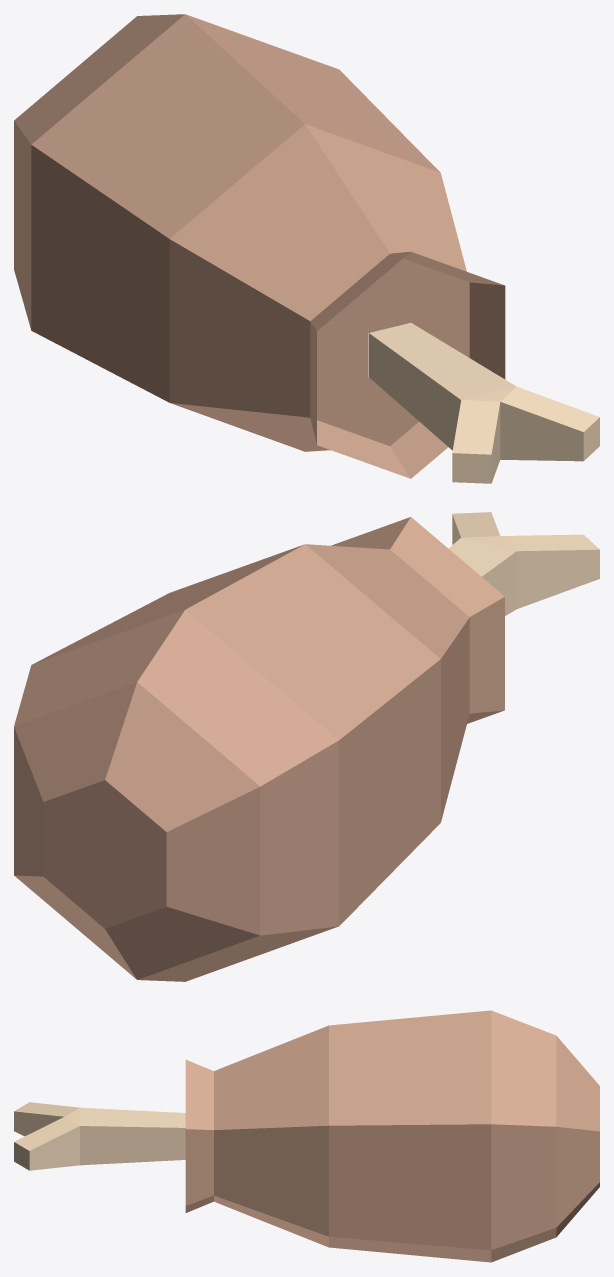
The model's file is ham_bone.gltf.
3 views of the same model, one above another, from view 1: azimuth 30°, elevation 25°; view 2: azimuth 150°, elevation 25°; view 3: azimuth 270°, elevation 25° (orthographic). The views are drawn at different scales.
Parts seen in each view (by area): view 1: wholerHam; view 2: wholerHam; view 3: wholerHam.
Part boxes in pixels (x1,y1,x2,y2): wholerHam: [14, 14, 599, 483]; wholerHam: [14, 512, 599, 981]; wholerHam: [14, 1010, 599, 1262].
Size of the model in its own units: 0.341 by 0.3937 by 0.8294.
